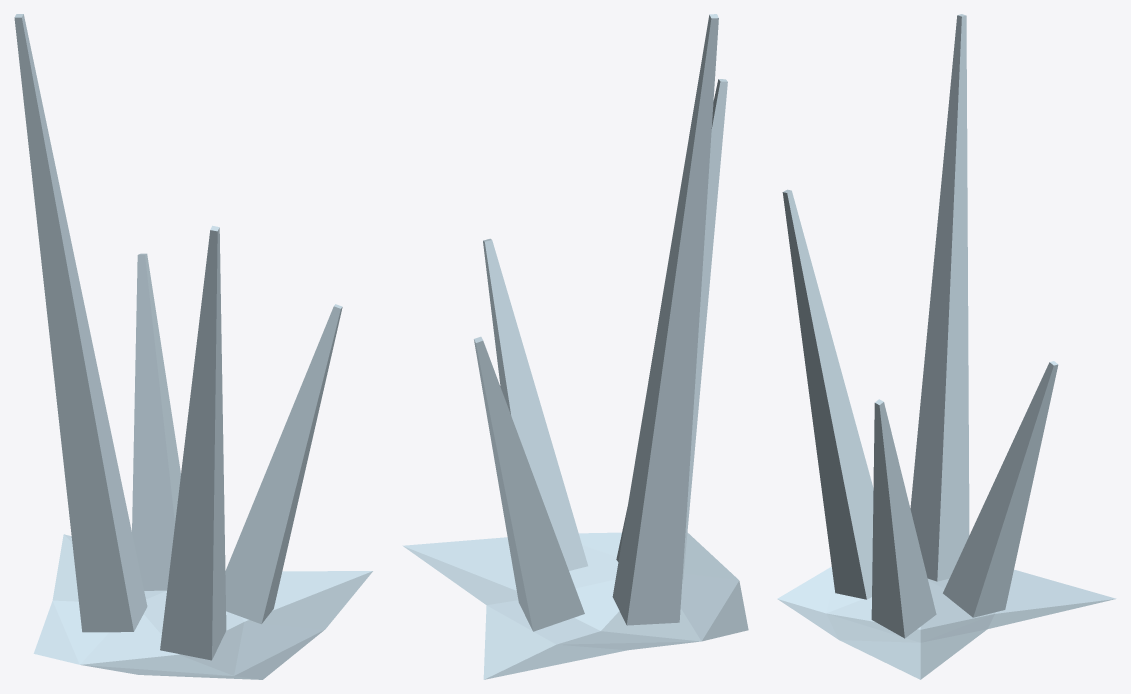
The model's file is ice_shard_v10.glb.
3 renders of one model, left to right at view 1: azimuth 30°, elevation 25°; view 2: azimuth 150°, elevation 25°; view 3: azimuth 270°, elevation 25°, orthographic. The views are drawn at different scales.
Visible parts, largest first — view 1: lod0; view 2: lod0; view 3: lod0.
Part boxes in pixels (x1=…): lod0: x1=14, y1=14, x2=372, y2=679; lod0: x1=402, y1=14, x2=748, y2=679; lod0: x1=777, y1=14, x2=1116, y2=679.
Size of what is drawn, in the model's own units: 0.7196 by 1.32 by 0.7304.
